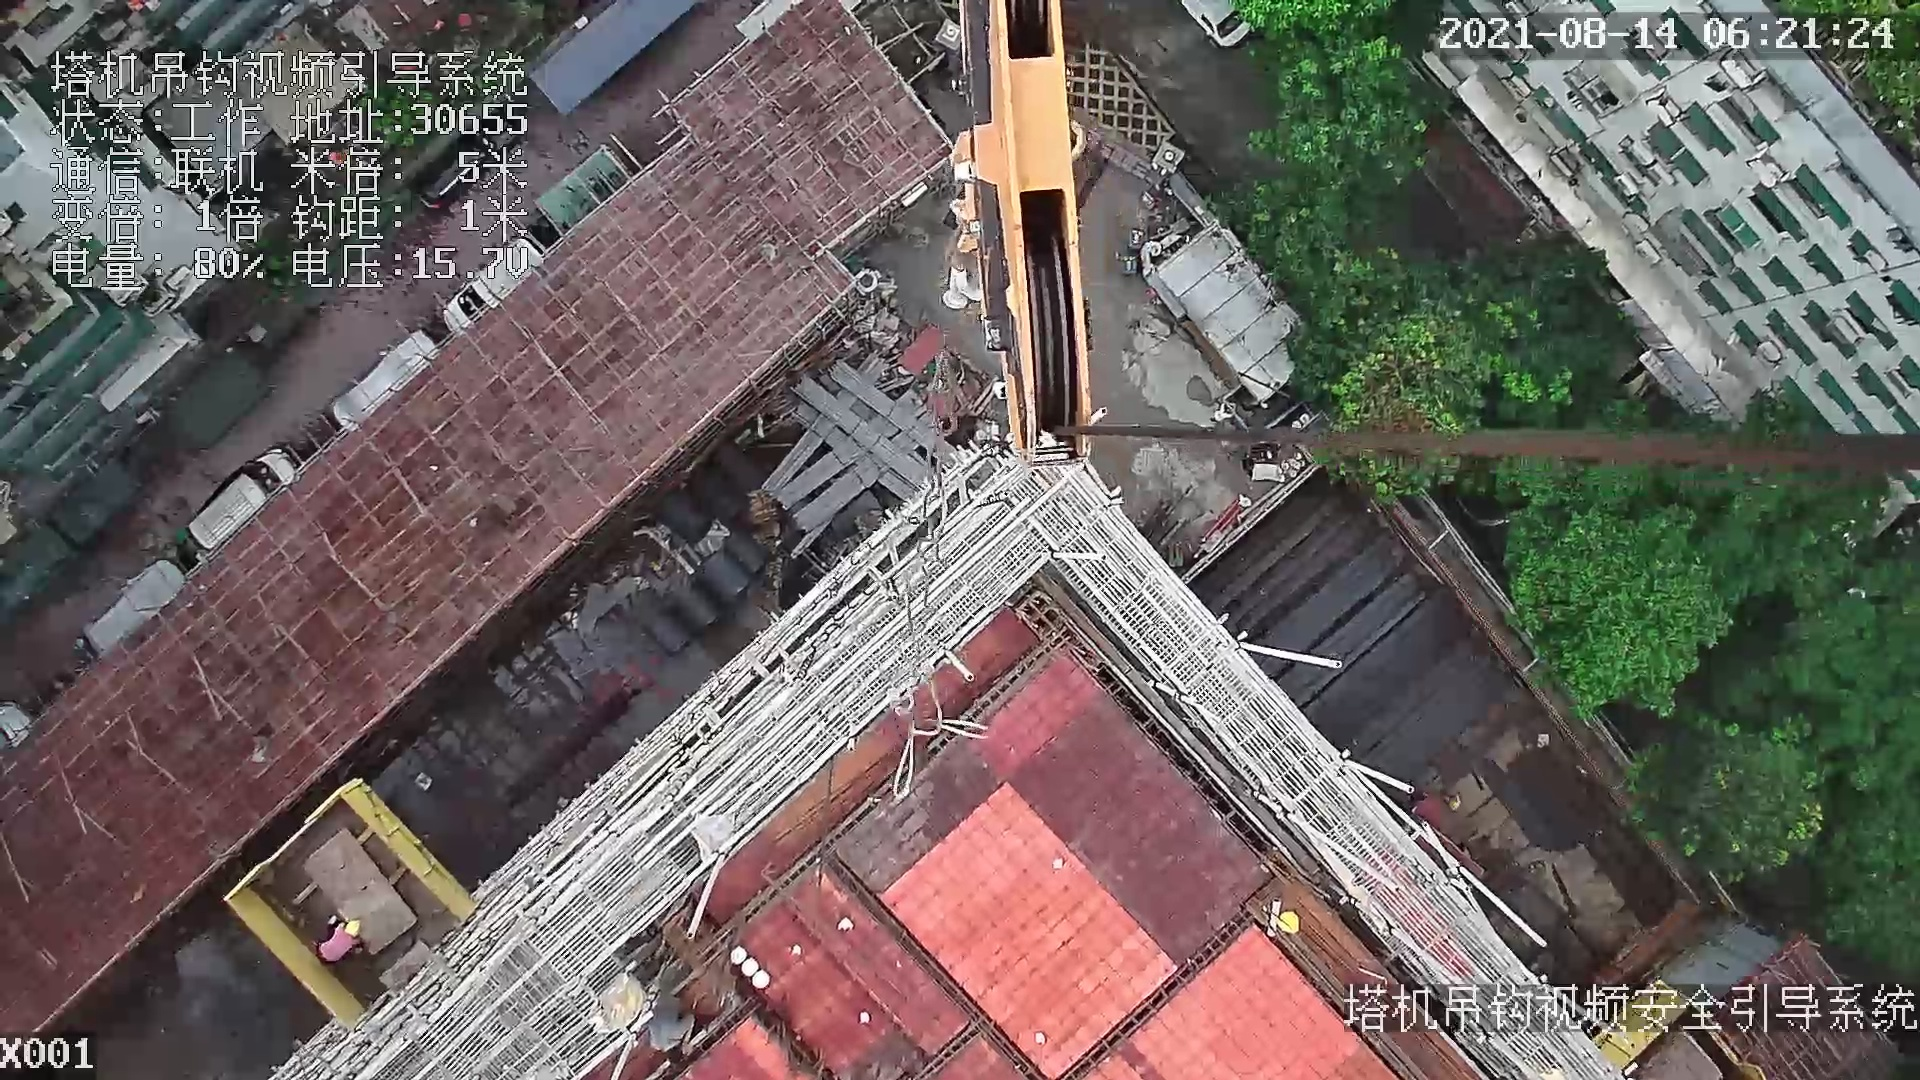helmet: (1278, 910, 1304, 936)
hook: (933, 1, 1103, 465)
person: (315, 910, 365, 967)
rebar: (1187, 481, 1453, 722)
